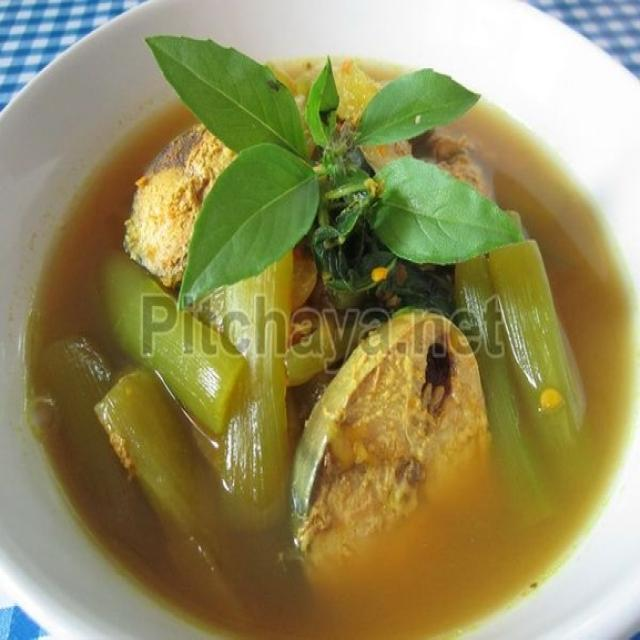汤锅炖物: (8, 15, 636, 628)
